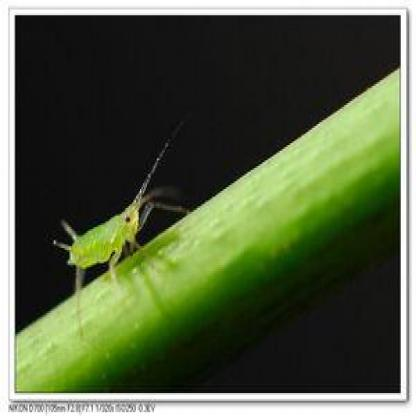aphid: (45, 146, 188, 321)
